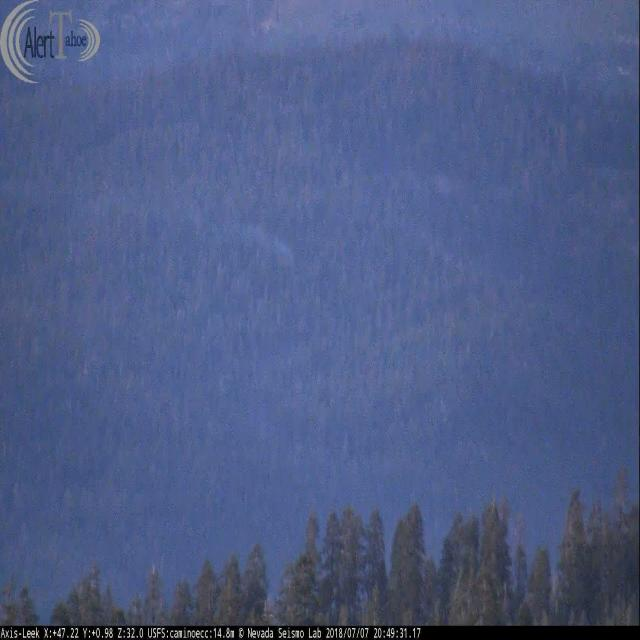smoke: (254, 219, 294, 261)
